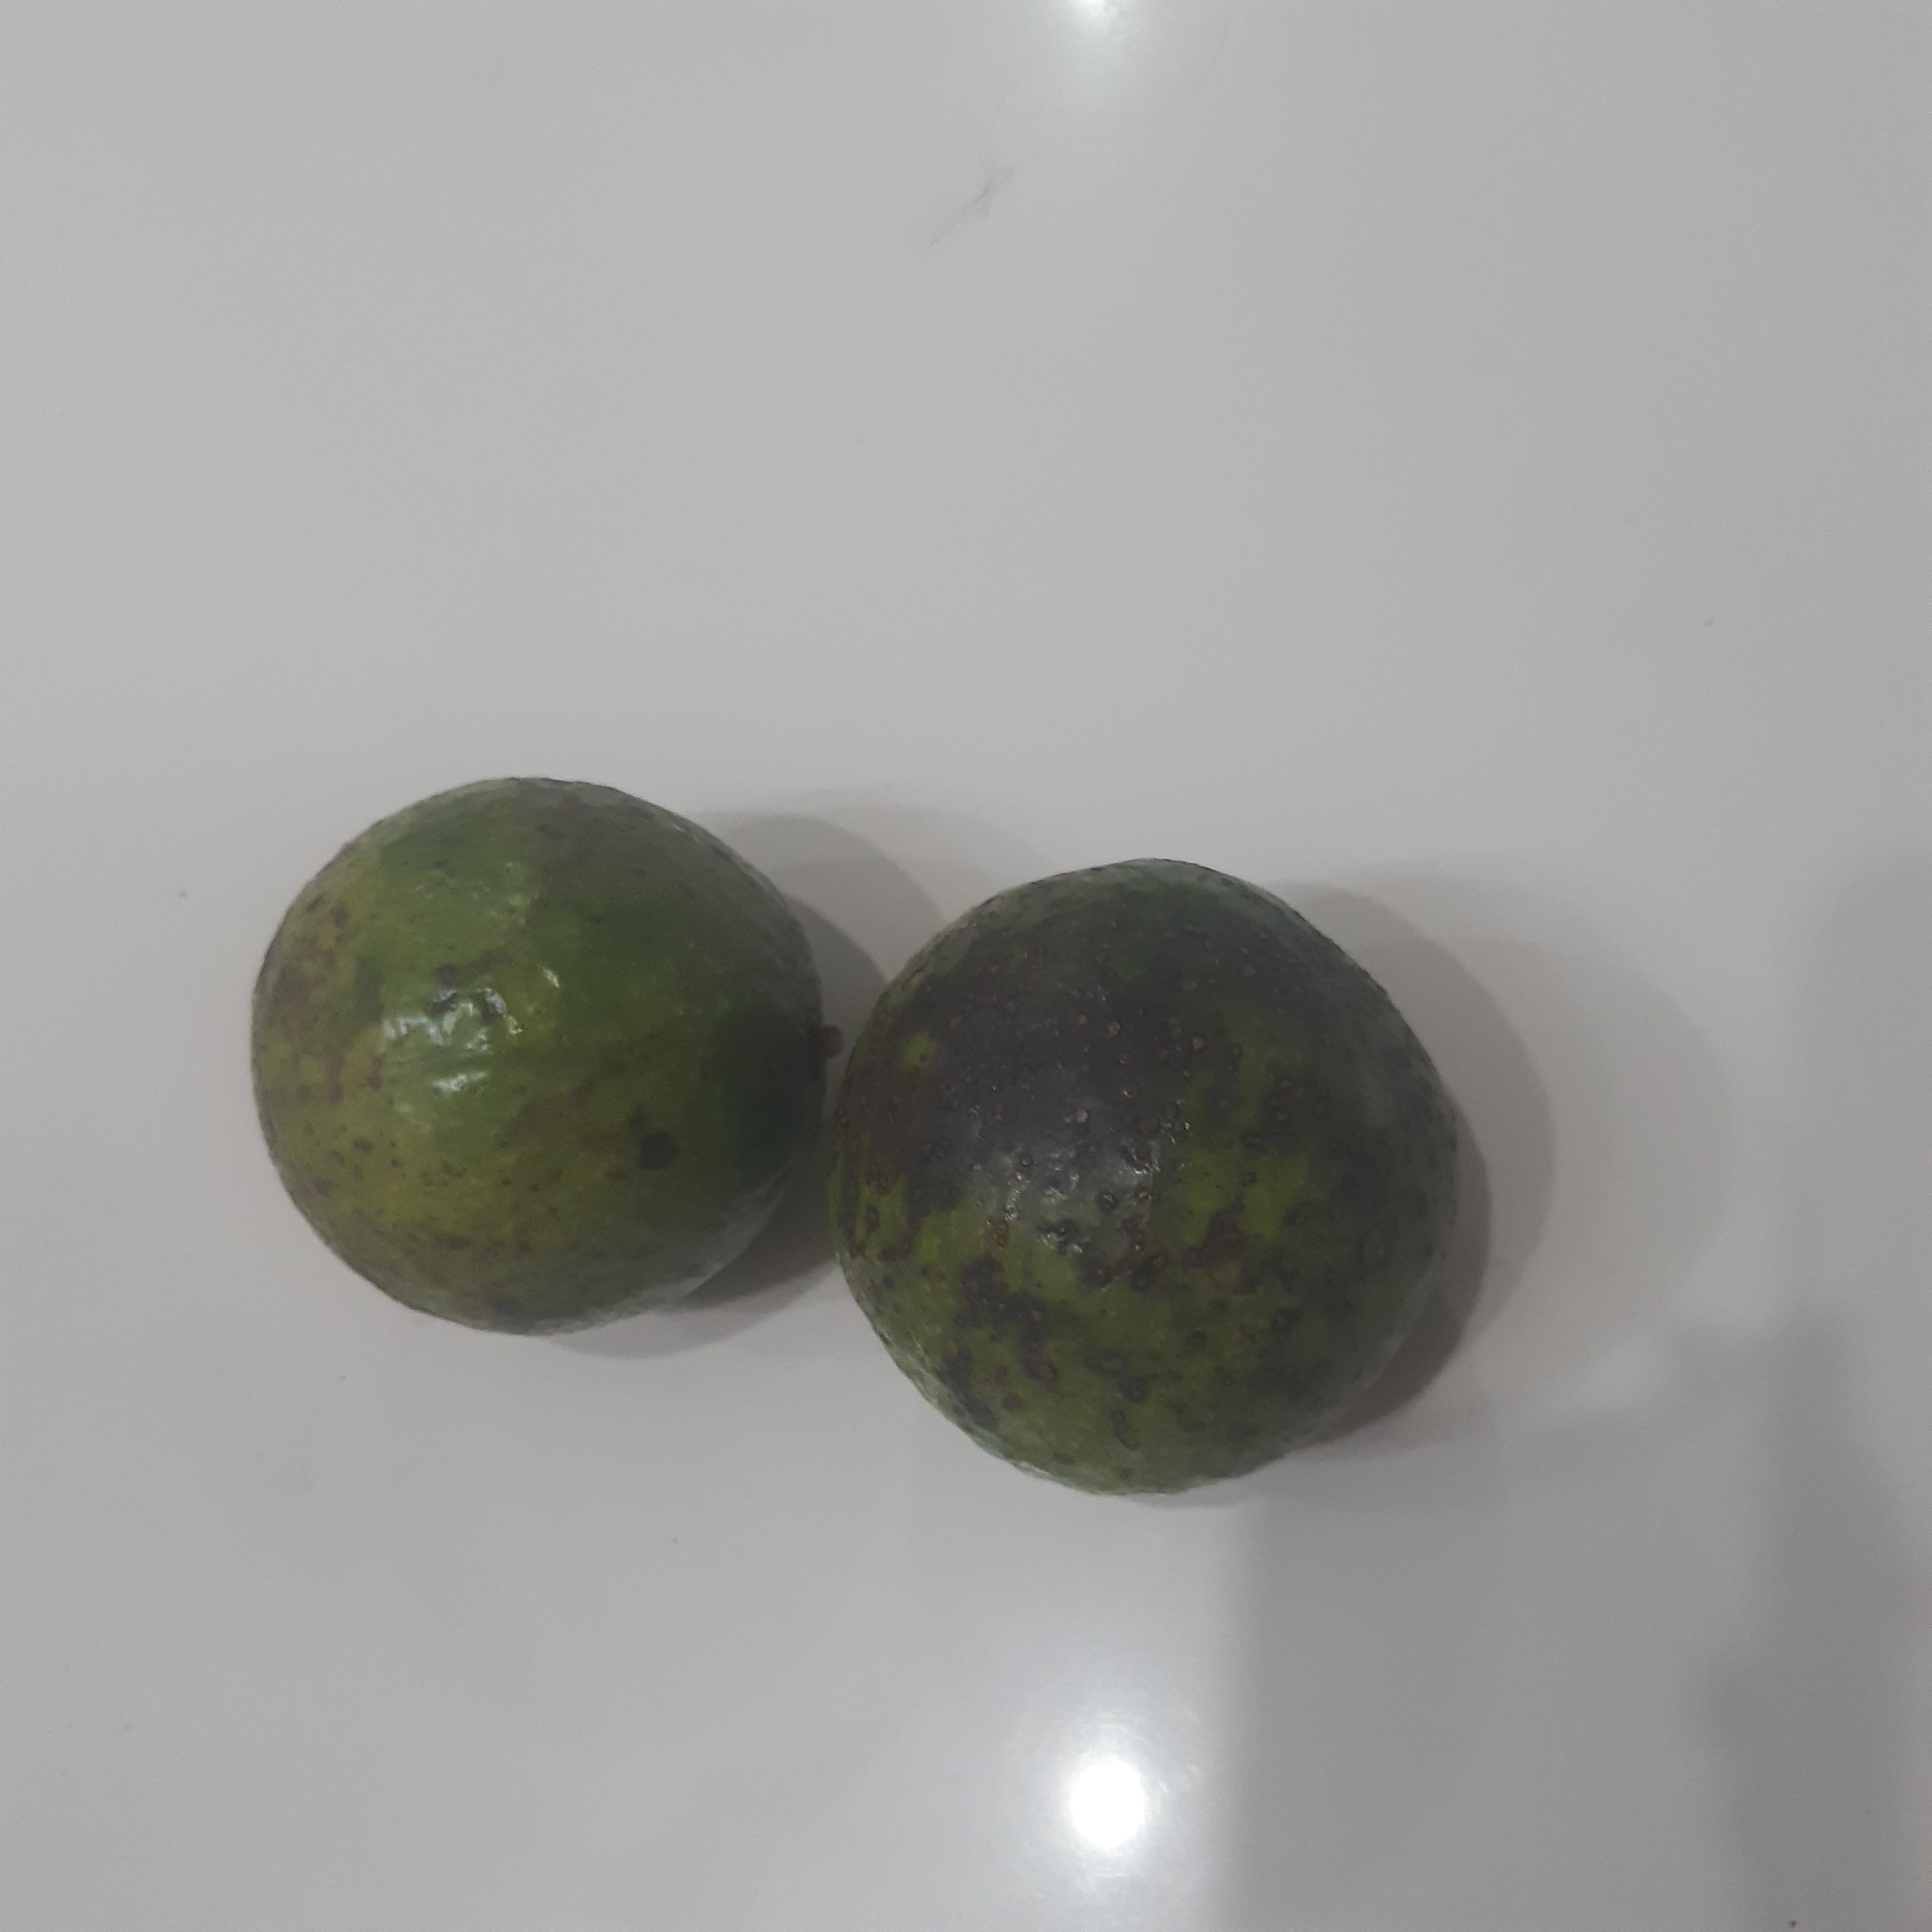Bo: (828, 862, 1464, 1498), (251, 776, 828, 1337)
